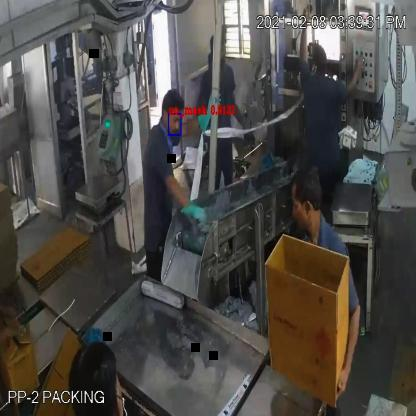glove: (165, 162, 213, 226), (168, 98, 224, 139)
no_glove: (333, 278, 370, 400)
